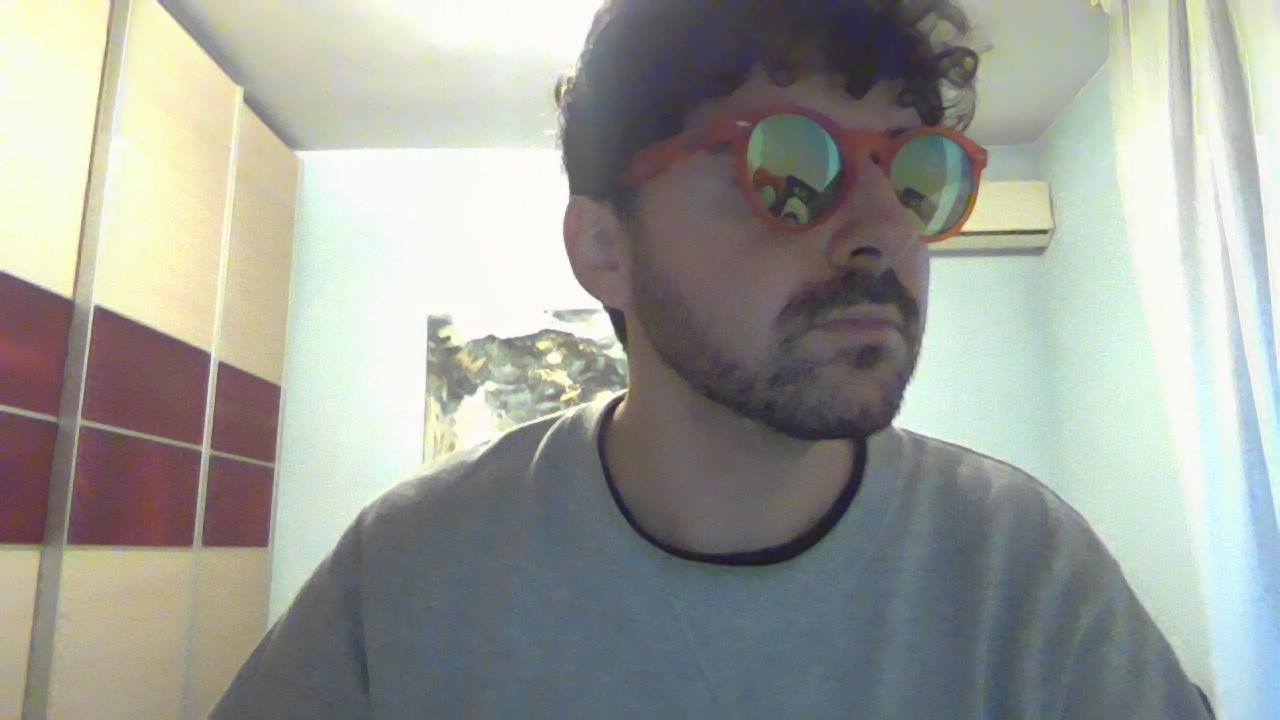Glasses: (595, 96, 1010, 256)
